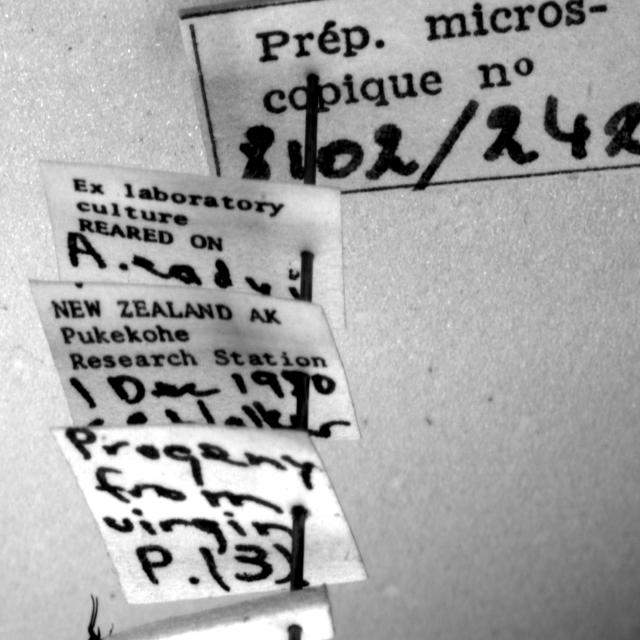hand_label: (52, 426, 366, 604)
mixed_label: (179, 0, 640, 195), (30, 281, 360, 439), (41, 161, 345, 328)
